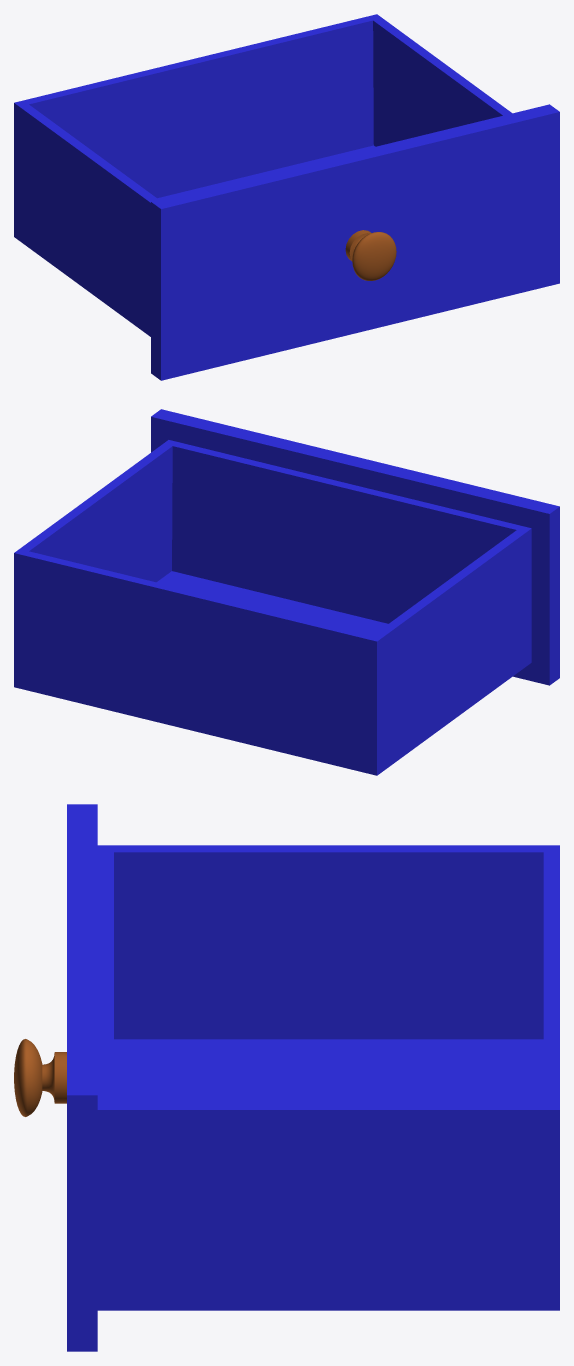
Rendered from tiroir_com_d.fbx.
3 renders of one model, top to bottom at view 1: azimuth 30°, elevation 25°; view 2: azimuth 150°, elevation 25°; view 3: azimuth 270°, elevation 25°, orthographic. The views are drawn at different scales.
Visible parts, largest first — view 1: Object010; view 2: Object010; view 3: Object010.
Part boxes in pixels (box(x1,y1,x2,y2)): Object010: box(14, 14, 559, 380); Object010: box(14, 409, 559, 775); Object010: box(14, 804, 559, 1351).
Bounding box in the file's own units: 0.4465 × 0.1836 × 0.3544.
